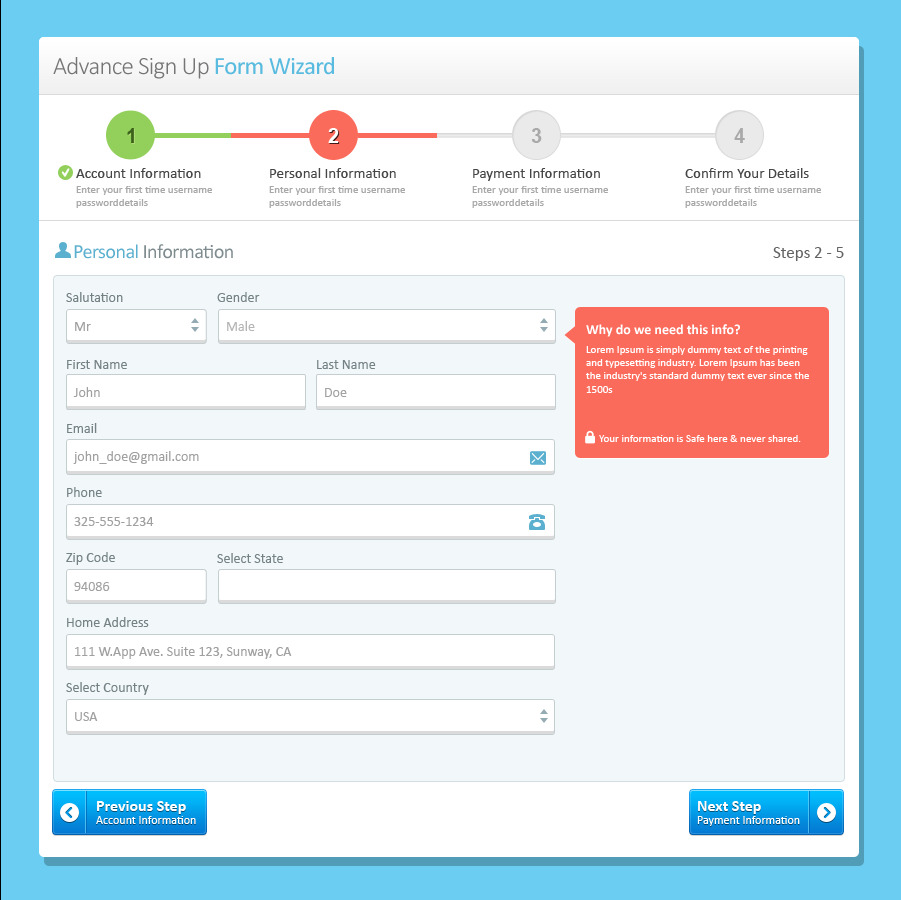_form_: (52, 288, 573, 679), (46, 483, 567, 874), (602, 747, 869, 878)
button: (687, 788, 845, 837), (50, 788, 207, 837)
field: (62, 632, 557, 672), (62, 501, 557, 540), (65, 698, 556, 737), (62, 437, 557, 475), (213, 567, 559, 605), (217, 308, 556, 345), (313, 373, 558, 411), (62, 374, 307, 409), (63, 566, 207, 604), (65, 307, 207, 344)
field_with_label: (60, 617, 560, 674), (60, 487, 560, 543), (61, 682, 559, 738), (59, 423, 561, 478), (216, 292, 560, 348), (213, 553, 561, 607), (315, 359, 561, 413), (59, 360, 309, 411), (63, 291, 210, 346), (61, 552, 208, 606)
